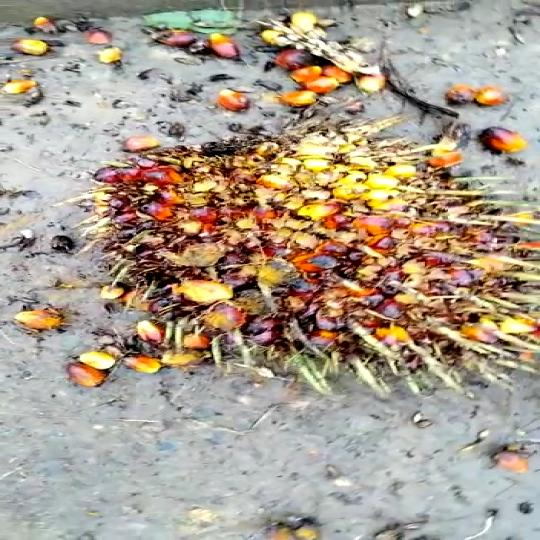terlalu masak: (81, 142, 540, 399)
